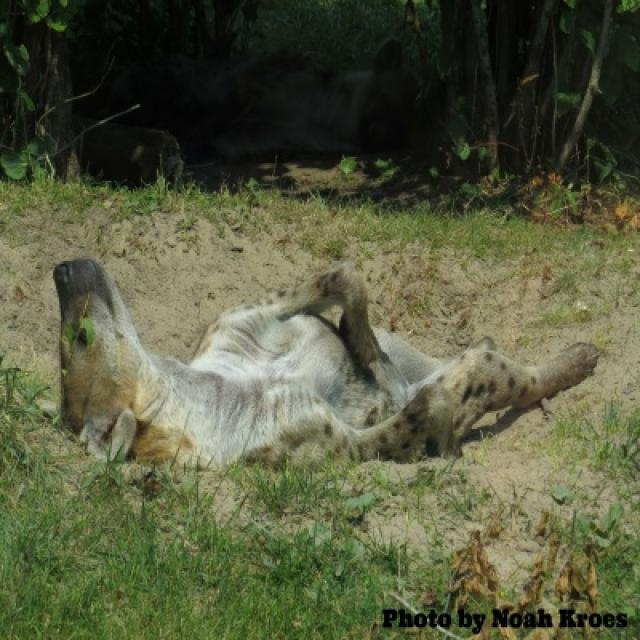hyena: (54, 258, 598, 467)
